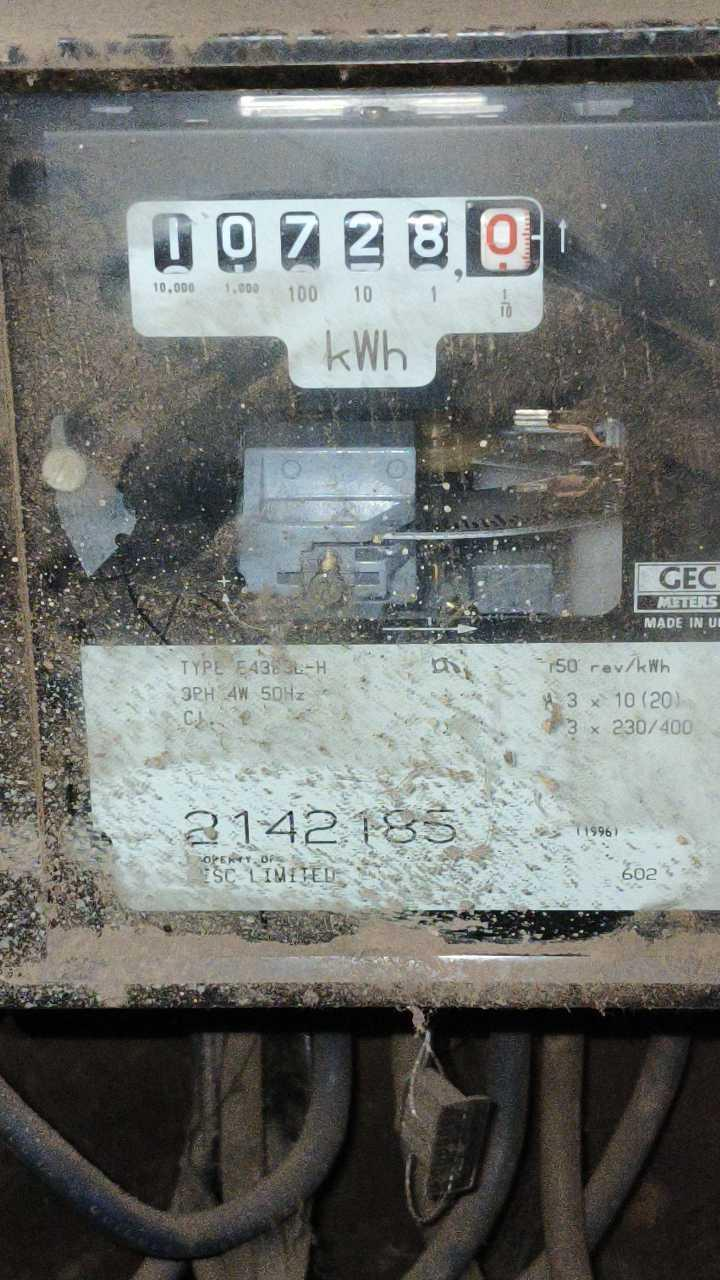meter_readings: (140, 204, 536, 279)
serial_number: (165, 794, 480, 853)
